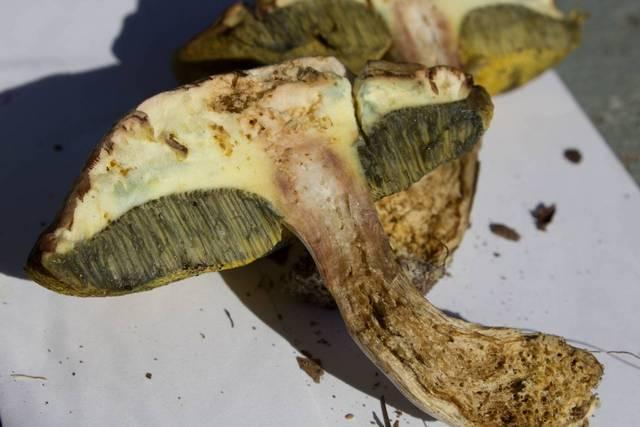edible_mushroom: (24, 53, 605, 426)
